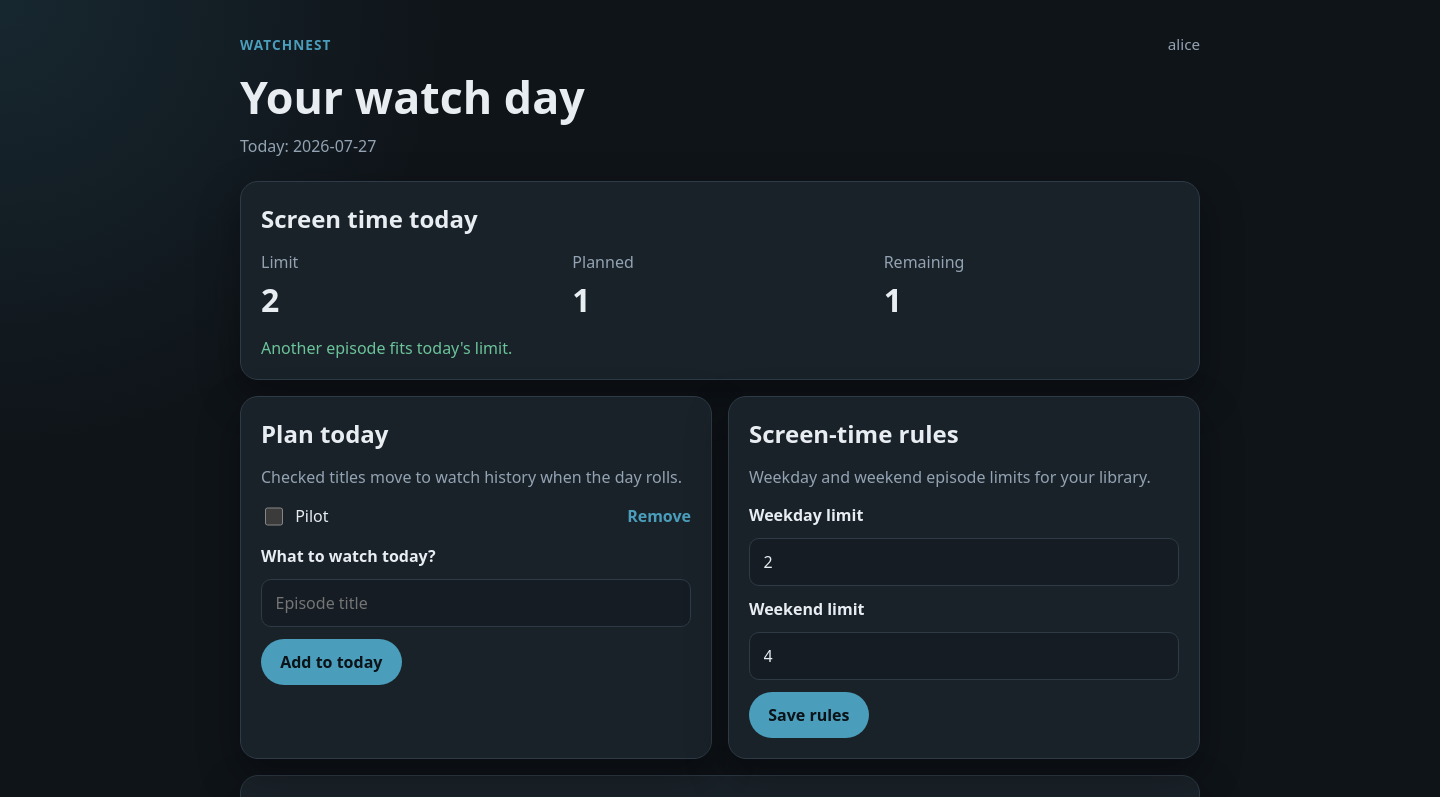
Scenario: PlanTodaySection › keeps Account settings in a username disclosure, not a page card
The width and height of the screenshot is (1440, 797).
Expected: the button "Log out" is not shown
Expected: the checkbox labelled "Treat planned titles as watched" is not shown
Click the button "alice": click(1184, 44) [1168,32,1200,57]
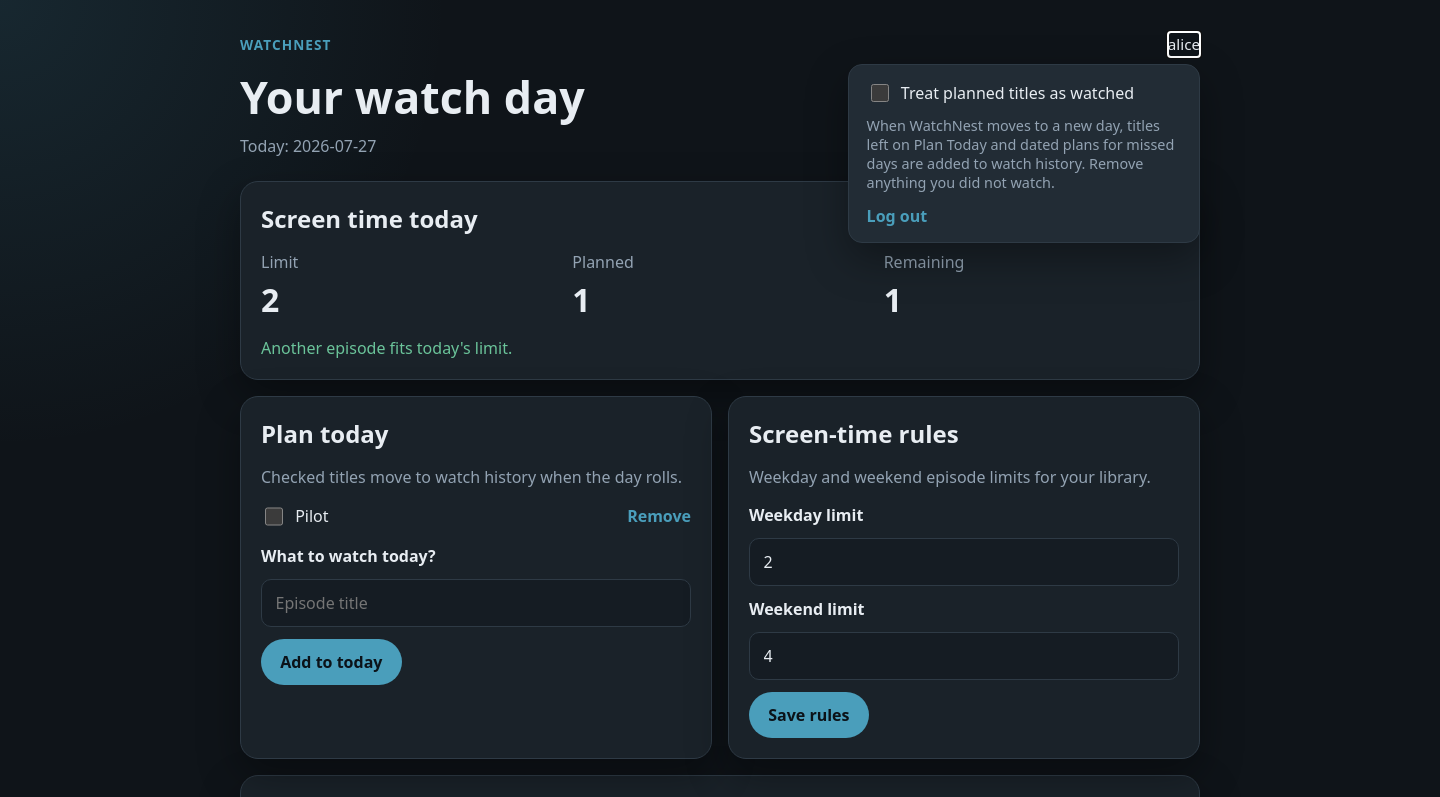
Result: the button "alice" is expanded at [1168,32,1200,57]
Result: the checkbox labelled "Treat planned titles as watched" is not checked at [871,84,889,102]
Result: the text "When WatchNest moves to a new day, titles left on Plan Today and dated plans for missed days are added to watch history." is shown at [867,116,1174,192]
